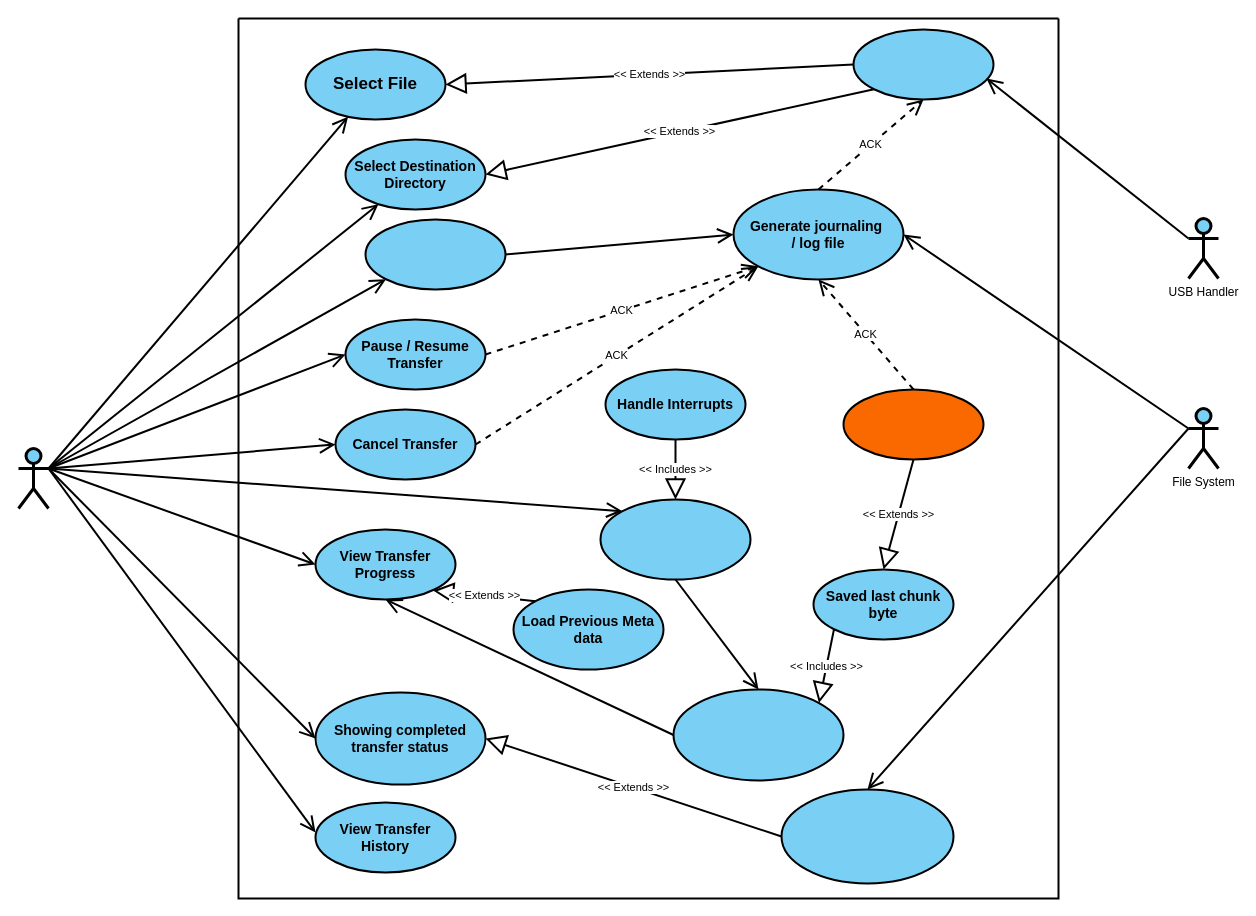
Image size: 1256x916. Some labels were removed from this diagram. The shapes that lost their labels are listed below. From the top down, each one's box as (x1, y1, x2, y2) in pixels, then its label:
(852, 28, 994, 100): USB Device
(364, 218, 506, 290): Start File Transfer
(842, 388, 984, 460): Interrupts
(16, 446, 50, 510): User
(599, 498, 751, 580): After Interrupts Resume Permission
(672, 688, 844, 781): Resuming from last saved chunk byte
(780, 788, 954, 884): 100% Complete write disk and delete log file
